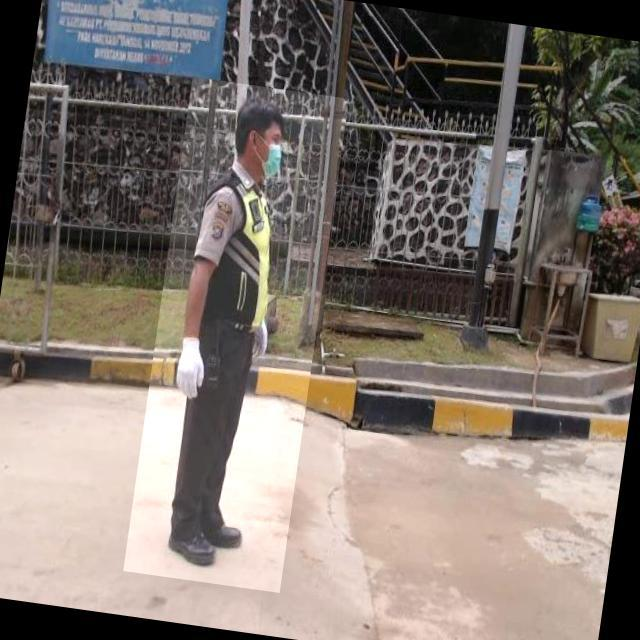Gloves: (173, 330, 213, 409)
Person: (148, 89, 315, 592)
Safety Boot: (166, 518, 221, 571), (200, 508, 246, 557)
Safety Vest: (185, 173, 285, 342)
no-helmet: (231, 98, 291, 131)
